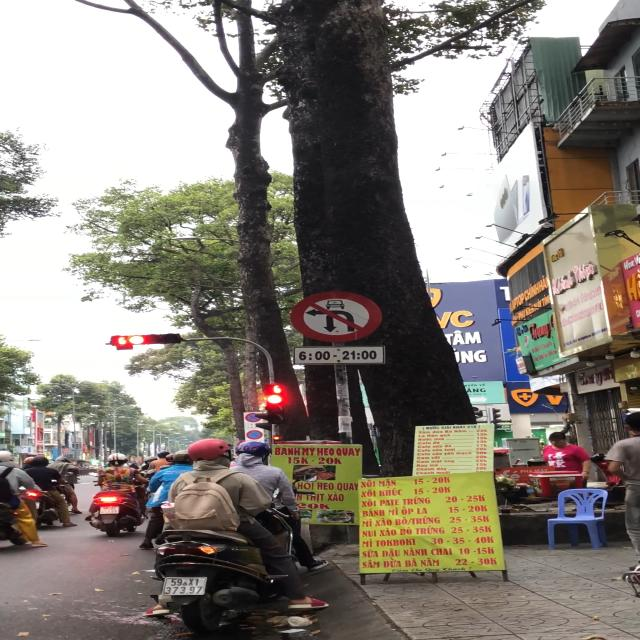Bien bao cam oto re trai va quay dau xe: (288, 291, 384, 345)
